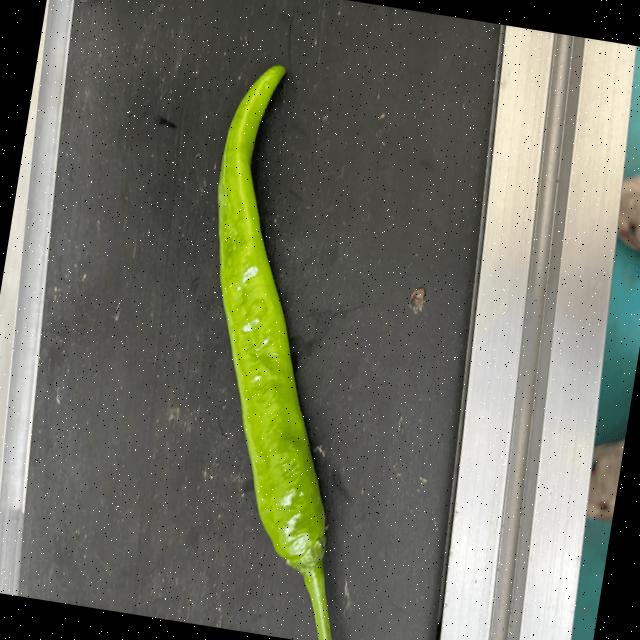chili: (213, 63, 326, 574)
